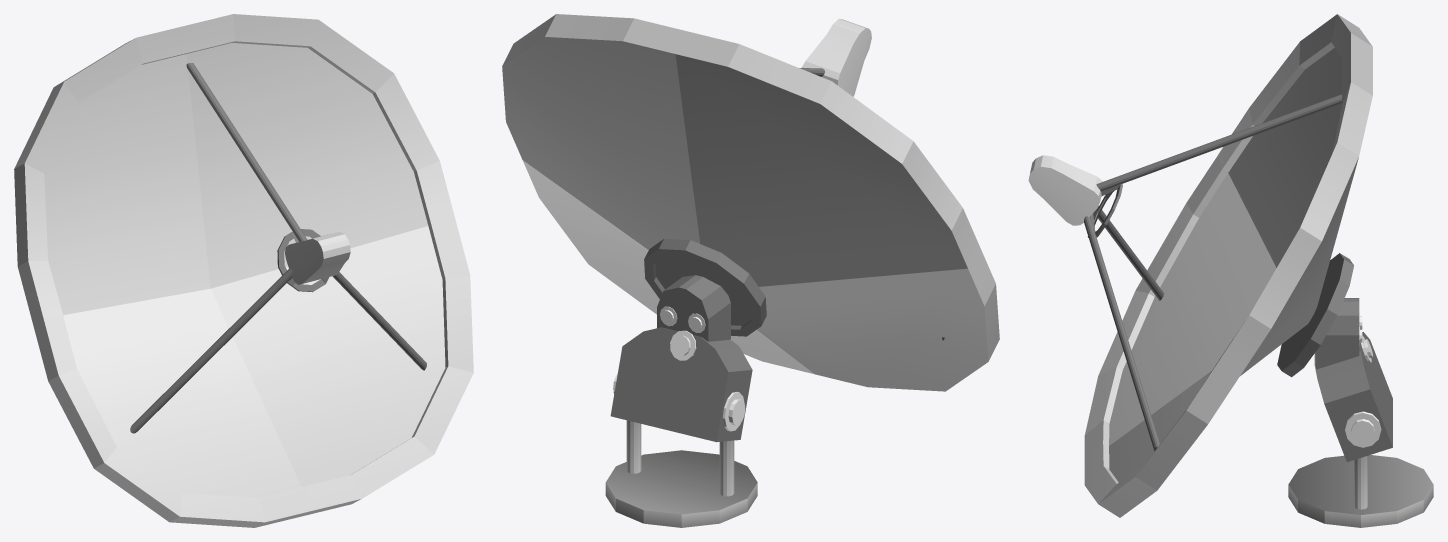
Rendered from SM_Int_Antenna.fbx.
The picture shows the model from 3 angles, left to right: view 1: azimuth 30°, elevation 25°; view 2: azimuth 150°, elevation 25°; view 3: azimuth 270°, elevation 25°; orthographic projection. The views are drawn at different scales.
Visible parts, largest first — view 1: SM_Int_Antenna; view 2: SM_Int_Antenna; view 3: SM_Int_Antenna.
Boxes of the visible parts, bbox=[...] form: SM_Int_Antenna: bbox=[14, 14, 473, 527]; SM_Int_Antenna: bbox=[502, 14, 999, 527]; SM_Int_Antenna: bbox=[1028, 14, 1433, 527].
Bounding box in the file's own units: 80.95 × 80 × 66.77.
